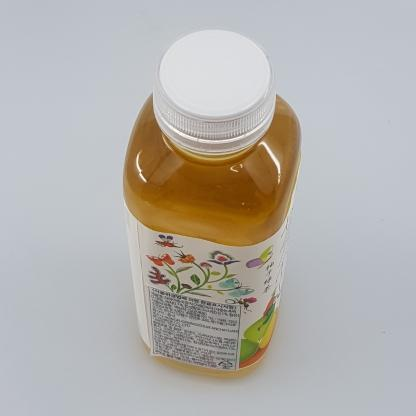------------: (122, 28, 302, 378)
